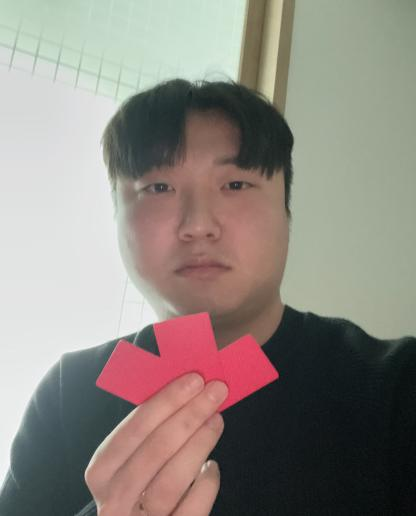ThreeHwatoo: (80, 303, 290, 437)
